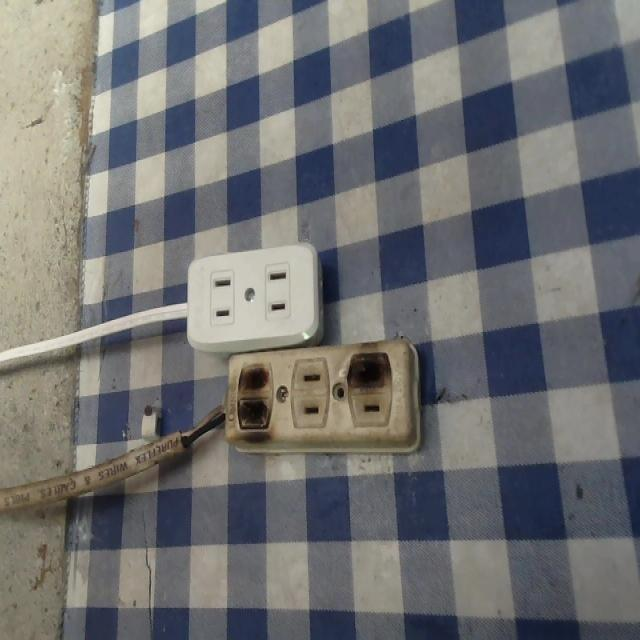-: (233, 357, 276, 440), (337, 346, 401, 391)
